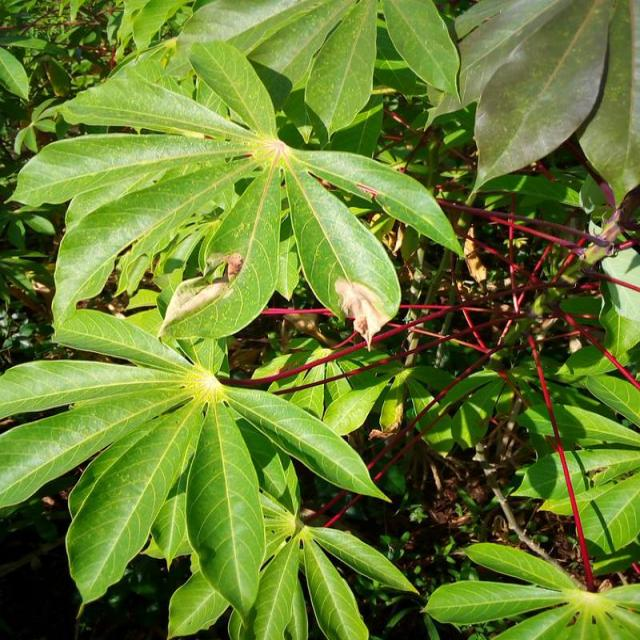cassava leaf: (9, 38, 464, 349), (1, 306, 396, 634)
